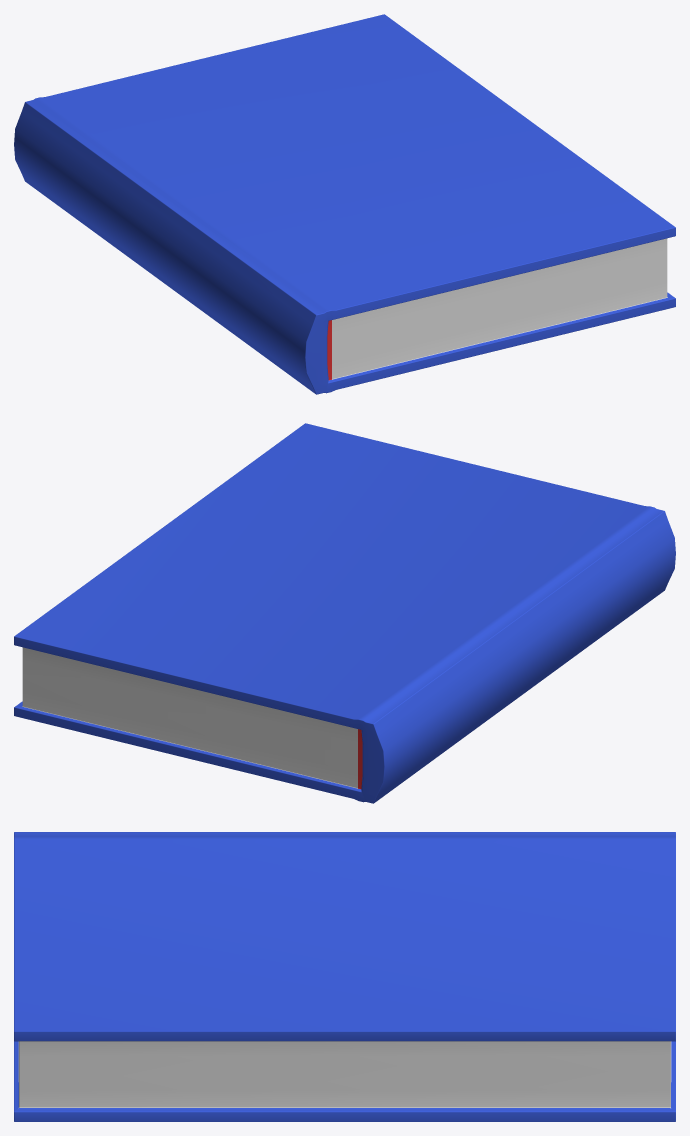
Rendered from Book.fbx.
3 views of the same model, one above another, from view 1: azimuth 30°, elevation 25°; view 2: azimuth 150°, elevation 25°; view 3: azimuth 270°, elevation 25° (orthographic). The views are drawn at different scales.
Parts seen in each view (by area): view 1: Book; view 2: Book; view 3: Book.
Part boxes in pixels (<box>): Book: <box>14,14,675,394</box>; Book: <box>14,423,675,803</box>; Book: <box>14,832,675,1121</box>.
Bounding box in the file's own units: 147 × 30.95 × 200.
